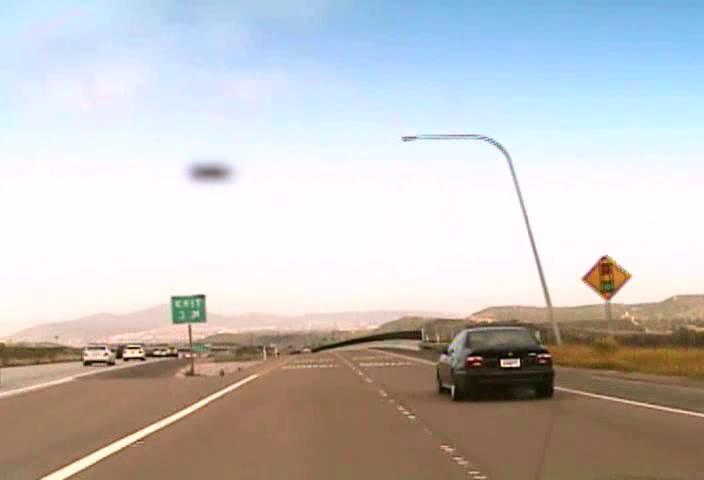signalAhead: (581, 254, 632, 300)
